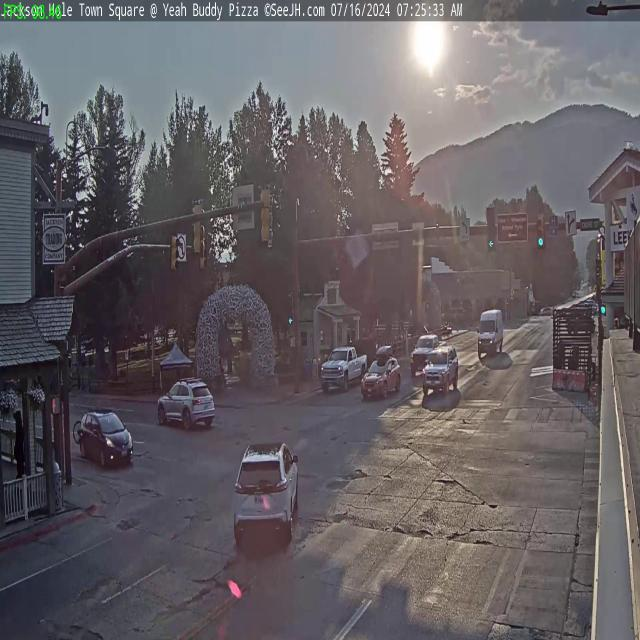pickup: (319, 343, 368, 394), (410, 332, 442, 373)
suv: (231, 436, 299, 548), (75, 405, 134, 470), (156, 375, 215, 432), (360, 354, 400, 400), (422, 346, 460, 394)
traffic light: (260, 184, 273, 246), (191, 198, 203, 255), (487, 207, 496, 250), (169, 234, 178, 271), (537, 214, 545, 248)
van: (476, 305, 503, 357)
